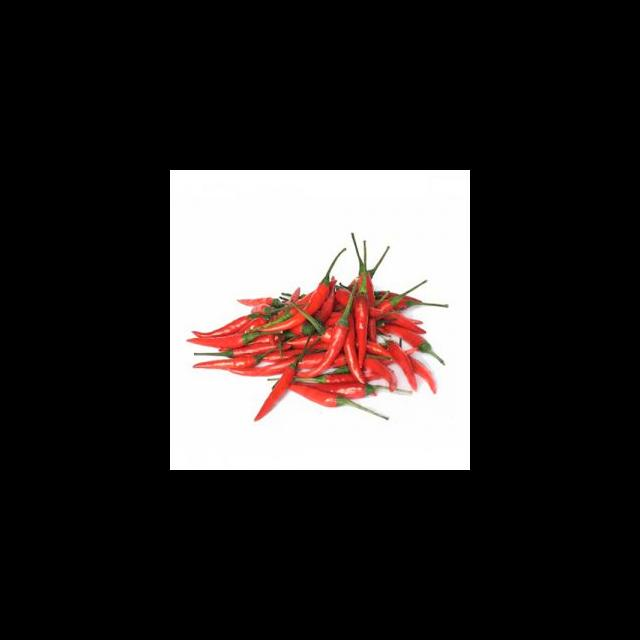chili_pepper: (255, 368, 296, 422), (289, 385, 337, 408), (193, 356, 257, 370)
